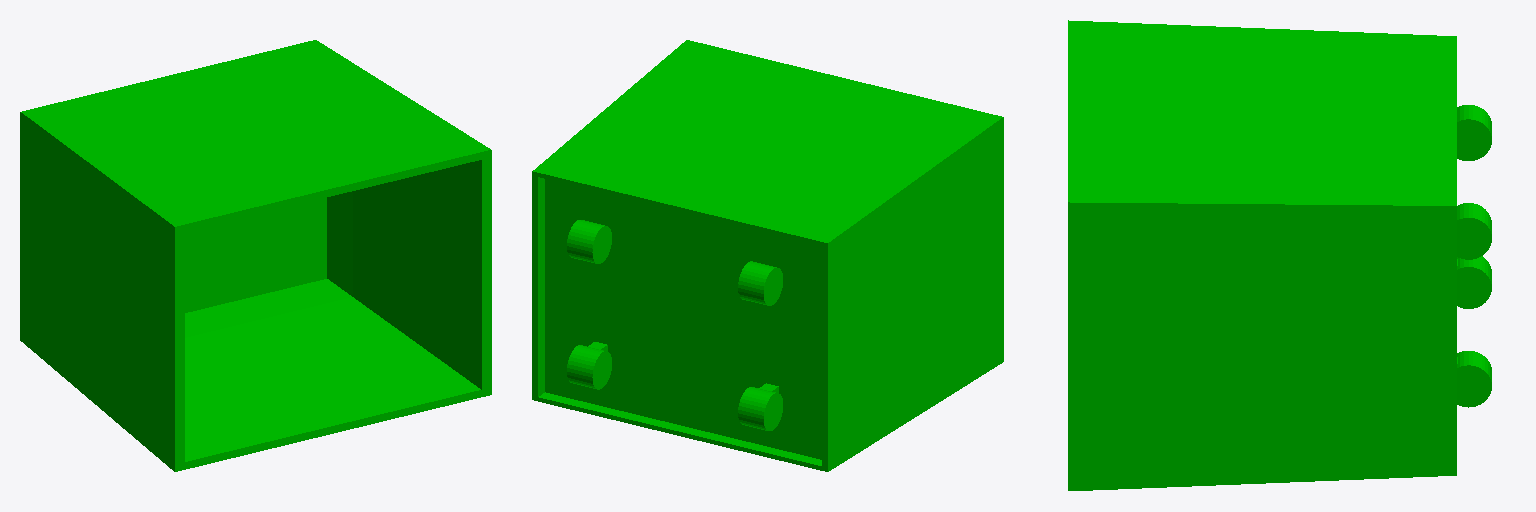
URDF robot description (green_bin):
<?xml version="1.0"?>
<robot name="green_bin">
<link name="green_bin">
    <visual>
      <geometry>
        <mesh filename="package://adream_simulation/models/cad_models/obj/green_bin.obj"/>
      </geometry>
      <origin rpy="1.57075 0 0" xyz="0 0 0"/>
      <material name="green">
        <color rgba="0 .8 0 1"/>
      </material>
    </visual>
    <collision>
      <geometry>
      <box size="0.285 0.375 0.06"/> <!-- bottom -->
      </geometry>
      <origin rpy="0 0 0" xyz="0 0 -0.15"/>
      <contact_coefficients mu="1000.0" kp="0.00" kd="0.0"/>
    </collision>
    <collision>
      <geometry>
      <box size="0.27 0.36 0.02"/> <!-- left -->
      </geometry>
      <origin rpy="1.57075 0 0" xyz="0 0.175 0"/>
      <contact_coefficients mu="1000.0" kp="0.00" kd="0.0"/>
    </collision>
    <collision>
      <geometry>
      <box size="0.27 0.36 0.02"/> <!-- right -->
      </geometry>
      <origin rpy="1.57075 0 0" xyz="0 -0.175 0"/>
      <contact_coefficients mu="1000.0" kp="0.00" kd="0.0"/>
    </collision>
    <collision>
      <geometry>
      <box size="0.365 0.36 0.02"/> <!-- front -->
      </geometry>
      <origin rpy="0 1.57075 0" xyz="-0.13 0 0"/>
      <contact_coefficients mu="1000.0" kp="0.00" kd="0.0"/>
    </collision>
    <collision>
      <geometry>
      <box size="0.365 0.36 0.02"/> <!-- back -->
      </geometry>
      <origin rpy="0 1.57075 0" xyz="0.13 0 0"/>
      <contact_coefficients mu="1000.0" kp="0.00" kd="0.0"/>
    </collision>
    <inertial>
      <mass value="0.7"/>
      <inertia ixx="0.001" ixy="0.0" ixz="0.0"
               iyy="0.001" iyz="0.0"
               izz="0.001"/>
    </inertial>
</link>

</robot>

--- Facts derived from the render (not from the file) ---
The picture shows the robot from 3 angles, left to right: view 1: azimuth 30°, elevation 25°; view 2: azimuth 150°, elevation 25°; view 3: azimuth 270°, elevation 25°; orthographic projection.
Robot: green_bin — 1 links, 0 joints (none); root link green_bin; default pose: every joint at zero.
Visible links, largest first — view 1: green_bin; view 2: green_bin; view 3: green_bin.
Boxes of the visible links, x1,y1,x2,y2 form: green_bin: (20,40,491,471); green_bin: (532,40,1003,471); green_bin: (1068,20,1491,490).
Bounding box of the posed robot: 0.37 × 0.3643 × 0.274 m (x, y, z).
Meshes: 1 distinct files referenced, 1 mesh visuals loaded (1 OBJ).